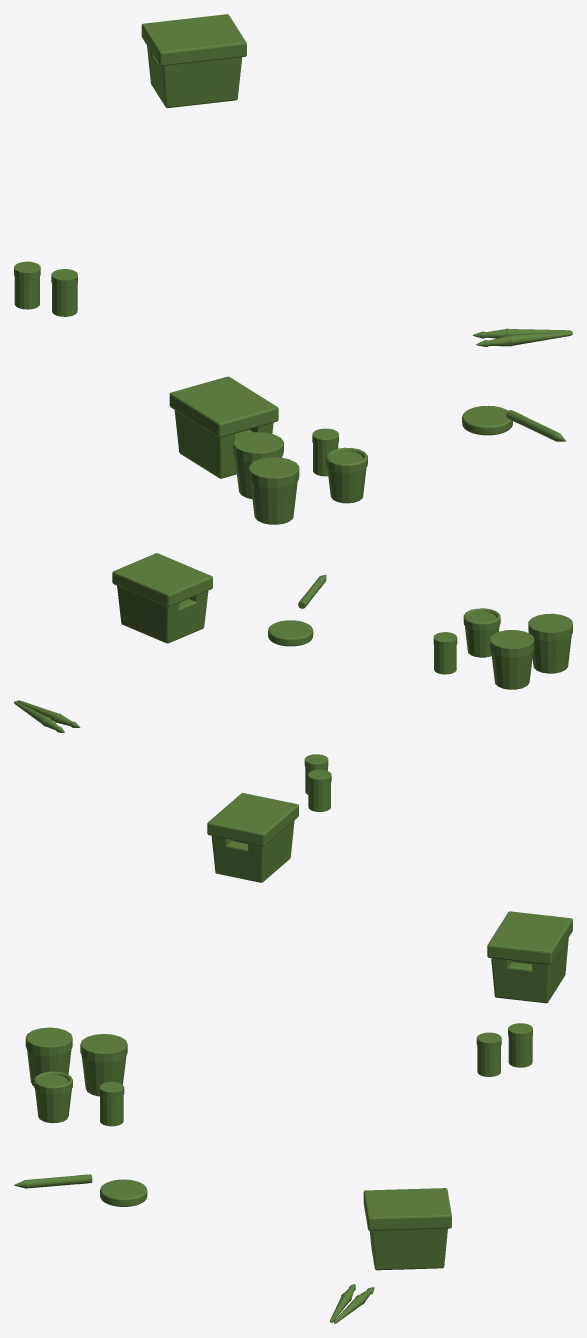
The model's file is stuf.fbx.
3 views of the same model, one above another, from view 1: azimuth 30°, elevation 25°; view 2: azimuth 150°, elevation 25°; view 3: azimuth 270°, elevation 25° (orthographic). The views are drawn at different scales.
Parts seen in each view (by area): view 1: box_on_shelf2, box_on_shelf3, paint_bucket_closed4, paint_bucket1, paint_bucket_closed3, ericas_stand1, wall_shelf_canister16, wall_shelf_canister15, wall_shelf_canister17, small_stool_paint_brush2; view 2: box_on_shelf2, box_on_shelf3, paint_bucket_closed3, paint_bucket_closed4, paint_bucket1, ericas_stand1, wall_shelf_canister17, wall_shelf_canister16, wall_shelf_canister15, small_stool_paint_brush2; view 3: box_on_shelf3, box_on_shelf2, paint_bucket_closed3, paint_bucket_closed4, paint_bucket1, ericas_stand1, wall_shelf_canister16, wall_shelf_canister15, wall_shelf_canister17, pencil1.
Part boxes in pixels (bbox=[...]): box_on_shelf2: bbox=[141, 14, 246, 107]; box_on_shelf3: bbox=[169, 376, 278, 478]; paint_bucket_closed4: bbox=[249, 457, 299, 524]; paint_bucket1: bbox=[326, 447, 367, 503]; paint_bucket_closed3: bbox=[233, 432, 283, 498]; ericas_stand1: bbox=[462, 405, 512, 435]; wall_shelf_canister16: bbox=[14, 261, 40, 309]; wall_shelf_canister15: bbox=[51, 269, 77, 316]; wall_shelf_canister17: bbox=[312, 428, 338, 476]; small_stool_paint_brush2: bbox=[476, 332, 572, 346]; box_on_shelf2: bbox=[112, 553, 212, 643]; box_on_shelf3: bbox=[207, 793, 298, 882]; paint_bucket_closed3: bbox=[489, 630, 534, 689]; paint_bucket_closed4: bbox=[528, 613, 572, 673]; paint_bucket1: bbox=[463, 608, 500, 657]; ericas_stand1: bbox=[268, 620, 313, 646]; wall_shelf_canister17: bbox=[433, 632, 457, 674]; wall_shelf_canister16: bbox=[308, 769, 331, 811]; wall_shelf_canister15: bbox=[304, 754, 328, 794]; small_stool_paint_brush2: bbox=[17, 700, 80, 727]; box_on_shelf3: bbox=[363, 1188, 451, 1270]; box_on_shelf2: bbox=[487, 911, 572, 1003]; paint_bucket_closed3: bbox=[80, 1034, 127, 1096]; paint_bucket_closed4: bbox=[25, 1027, 72, 1086]; paint_bucket1: bbox=[34, 1071, 72, 1123]; ericas_stand1: bbox=[100, 1179, 147, 1206]; wall_shelf_canister16: bbox=[508, 1023, 532, 1067]; wall_shelf_canister15: bbox=[476, 1032, 501, 1076]; wall_shelf_canister17: bbox=[99, 1082, 124, 1126]; pencil1: bbox=[14, 1174, 92, 1188].
Bounding box in the file's own units: 11.3 × 8.42 × 12.42.
